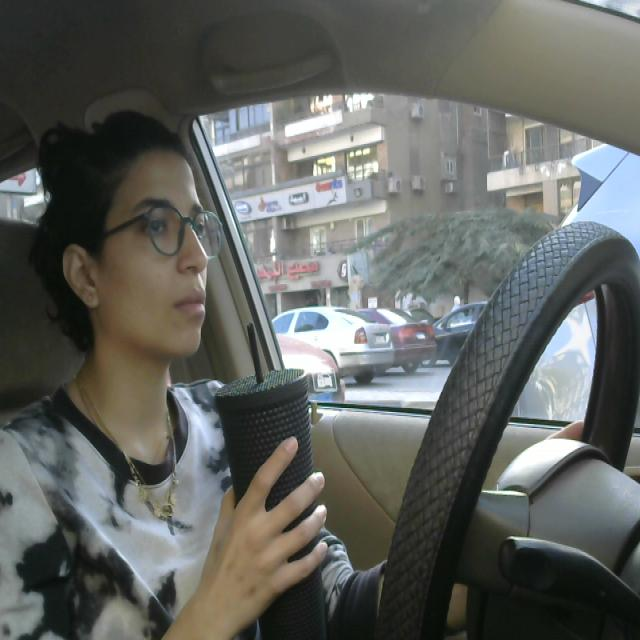drinking: (203, 318, 333, 640)
